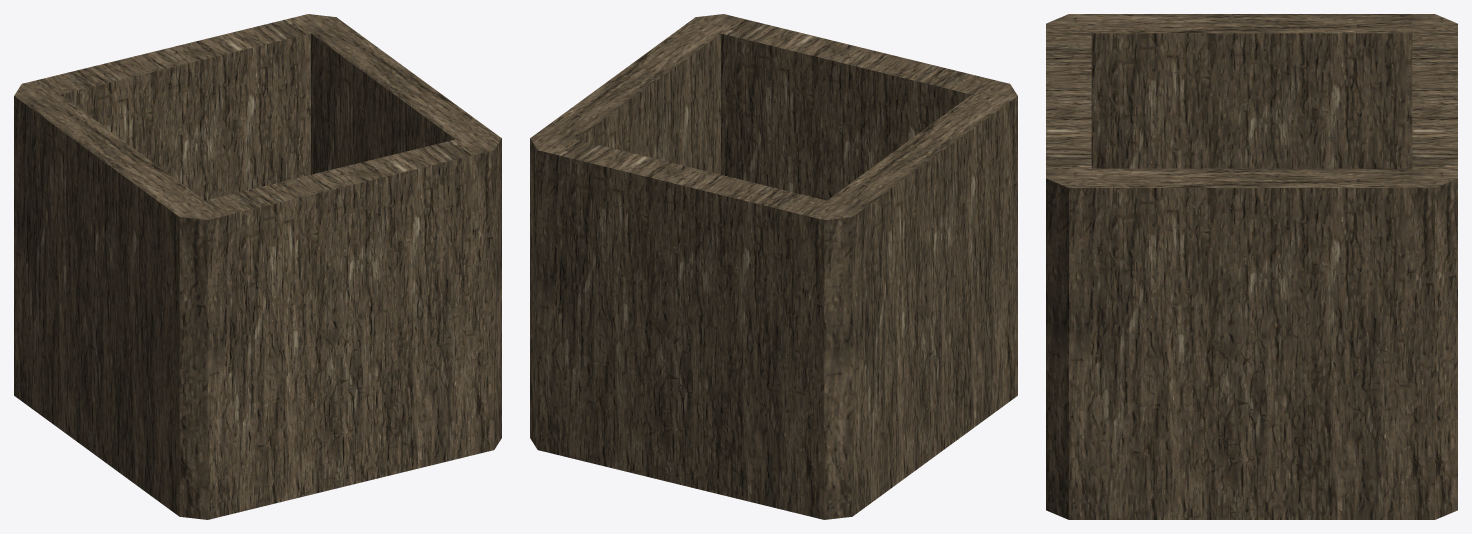
The model's file is caisse.obj.
3 renders of one model, left to right at view 1: azimuth 30°, elevation 25°; view 2: azimuth 150°, elevation 25°; view 3: azimuth 270°, elevation 25°, orthographic. The views are drawn at different scales.
Size of the model in its own units: 1.13 by 1 by 1.13.
